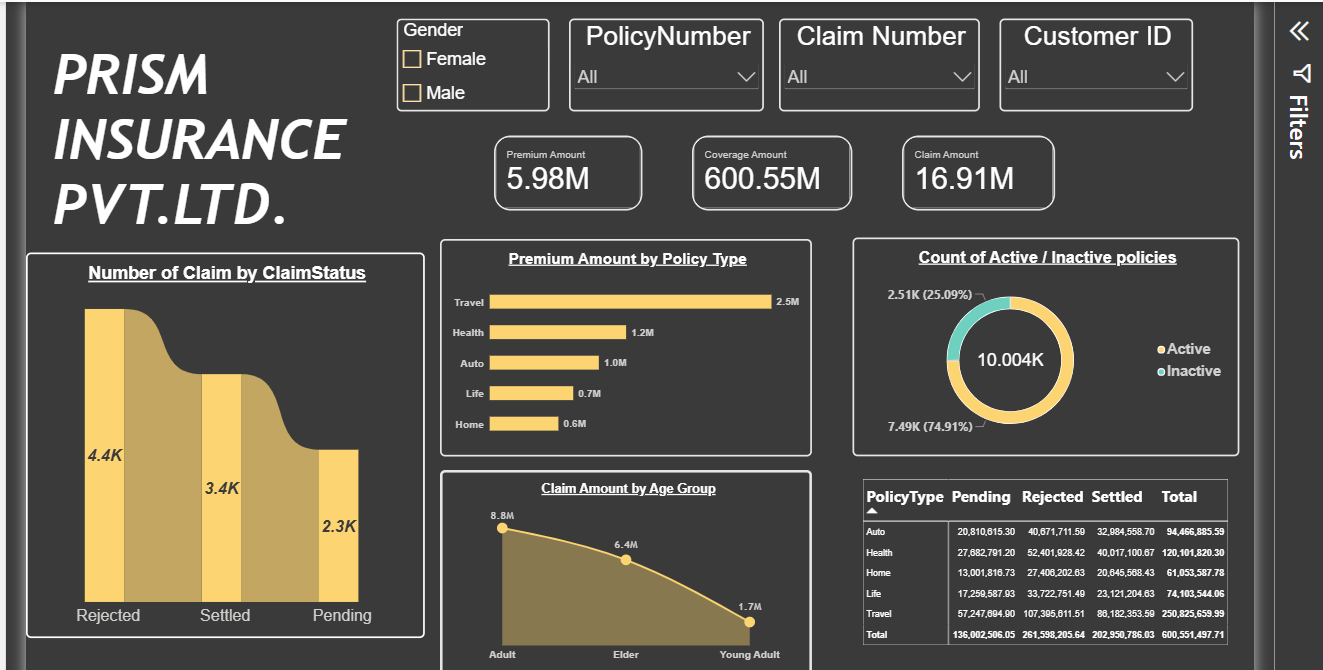

What the dashboard file says about the page in this screenshot:
{"tool":"powerbi","page":{"name":"Page 1","canvas":[1920,1080],"ordinal":0},"visuals":[{"type":"slicer","title":"PolicyNumber","fields":{"Values":["InsuranceData.PolicyNumber"]},"box":[848.7,25.8,304.8,145.4],"z":0},{"type":"slicer","title":"Customer ID","fields":{"Values":["InsuranceData.CustomerID"]},"box":[1521.6,25.8,302.4,145.4],"z":1000},{"type":"slicer","title":"Claim Number","fields":{"Values":["InsuranceData.ClaimNumber"]},"box":[1176.9,25.8,314.2,145.4],"z":2000},{"type":"textbox","box":[42.2,61,492.3,452.5],"z":3000},{"type":"cardVisual","fields":{"Data":["Sum(InsuranceData.PremiumAmount)"]},"box":[731.5,208.7,232.1,117.2],"z":4000},{"type":"cardVisual","fields":{"Data":["Sum(InsuranceData.ClaimAmount)"]},"box":[1369.2,208.7,239.1,117.2],"z":5000},{"type":"cardVisual","fields":{"Data":["Sum(InsuranceData.CoverageAmount)"]},"box":[1040.9,208.7,250.9,117.2],"z":6000},{"type":"ribbonChart","title":"Number of Claim by ClaimStatus","fields":{"Category":["InsuranceData.ClaimStatus"],"Y":["CountNonNull(InsuranceData.ClaimStatus)"]},"box":[0,391.5,623.6,602.5],"z":7000},{"type":"barChart","title":" Premium Amount by Policy Type","fields":{"Category":["InsuranceData.PolicyType"],"Y":["Sum(InsuranceData.PremiumAmount)"]},"box":[647.1,370.4,581.4,339.9],"z":8000},{"type":"slicer","fields":{"Values":["InsuranceData.Gender"]},"box":[579.1,25.8,239.1,145.4],"z":9000},{"type":"lineChart","title":" Claim Amount by Age Group","fields":{"Category":["InsuranceData.Age Group"],"Y":["Sum(InsuranceData.ClaimAmount)"]},"box":[647.1,731.5,581.4,321.2],"z":9001},{"type":"donutChart","title":" Count of Active  / Inactive policies","fields":{"Category":["InsuranceData.Active/Inactive "],"Y":["CountNonNull(InsuranceData.Active/Inactive )"]},"box":[1291.8,368.1,604.9,342.3],"z":9002},{"type":"pivotTable","fields":{"Columns":["InsuranceData.ClaimStatus"],"Rows":["InsuranceData.PolicyType"],"Values":["Sum(InsuranceData.CoverageAmount)"]},"box":[1291.8,731.5,628.3,349.3],"z":9003}]}

Visuals, with their boxes on the page's 1920x1080 design canvas (x1, y1, x2, y2). These are canvas units, not pixel positions in the 1323x670 screenshot, which may show the page scaled, cropped or inside an application window:
"PolicyNumber" slicer: (849, 26, 1154, 171)
"Customer ID" slicer: (1522, 26, 1824, 171)
"Claim Number" slicer: (1177, 26, 1491, 171)
textbox: (42, 61, 534, 514)
cardVisual - Sum(InsuranceData.PremiumAmount): (732, 209, 964, 326)
cardVisual - Sum(InsuranceData.ClaimAmount): (1369, 209, 1608, 326)
cardVisual - Sum(InsuranceData.CoverageAmount): (1041, 209, 1292, 326)
"Number of Claim by ClaimStatus" ribbonChart: (0, 392, 624, 994)
" Premium Amount by Policy Type" barChart: (647, 370, 1228, 710)
slicer - InsuranceData.Gender: (579, 26, 818, 171)
" Claim Amount by Age Group" lineChart: (647, 732, 1228, 1053)
" Count of Active  / Inactive policies" donutChart: (1292, 368, 1897, 710)
pivotTable - InsuranceData.ClaimStatus x InsuranceData.PolicyType: (1292, 732, 1920, 1081)
